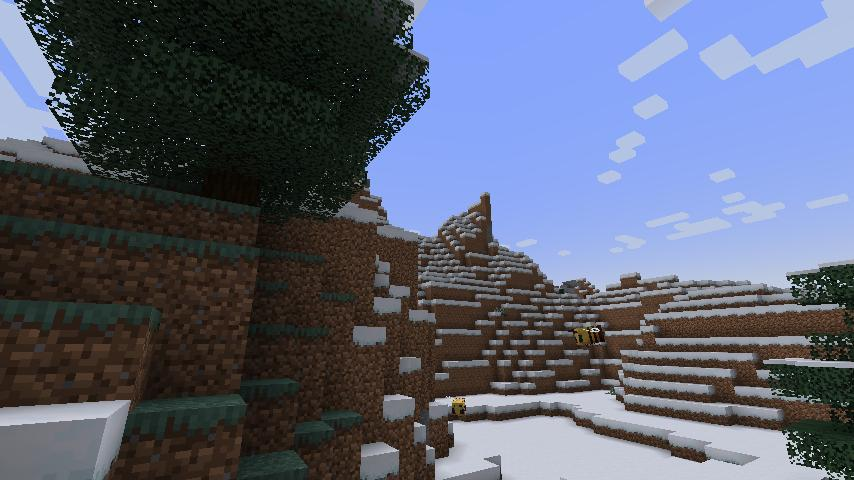bee: (570, 323, 606, 348), (451, 394, 468, 418)
